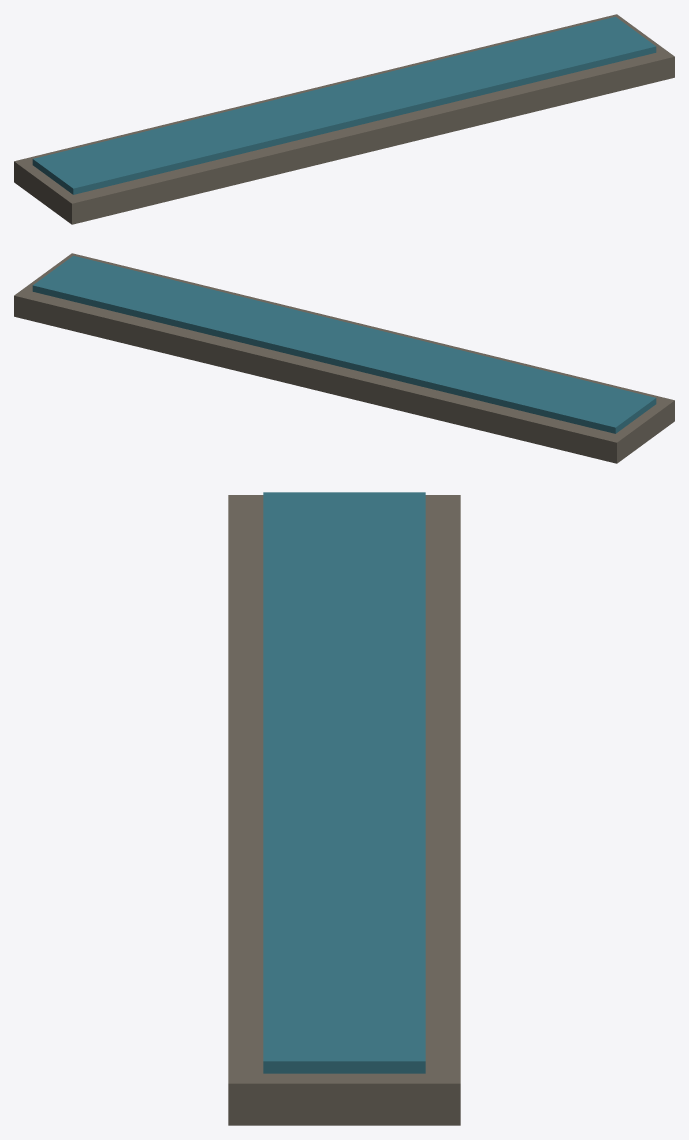
The model's file is irrigation-channels.source.glb.
3 views of the same model, one above another, from view 1: azimuth 30°, elevation 25°; view 2: azimuth 150°, elevation 25°; view 3: azimuth 270°, elevation 25° (orthographic). The views are drawn at different scales.
Visible parts, largest first — view 1: irrigation-channels-water-mesh, irrigation-channels-channel-mesh; view 2: irrigation-channels-water-mesh, irrigation-channels-channel-mesh; view 3: irrigation-channels-water-mesh, irrigation-channels-channel-mesh.
Boxes of the visible parts, left/top/right/bottom form: irrigation-channels-water-mesh: left=32, top=16, right=656, bottom=194; irrigation-channels-channel-mesh: left=14, top=14, right=674, bottom=224; irrigation-channels-water-mesh: left=32, top=255, right=656, bottom=433; irrigation-channels-channel-mesh: left=14, top=253, right=674, bottom=463; irrigation-channels-water-mesh: left=263, top=492, right=425, bottom=1073; irrigation-channels-channel-mesh: left=228, top=495, right=460, bottom=1125.
Size of the model in its own units: 6 by 0.26 by 1.
